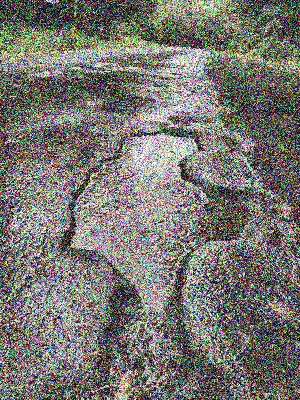pothole: (56, 125, 253, 308)
